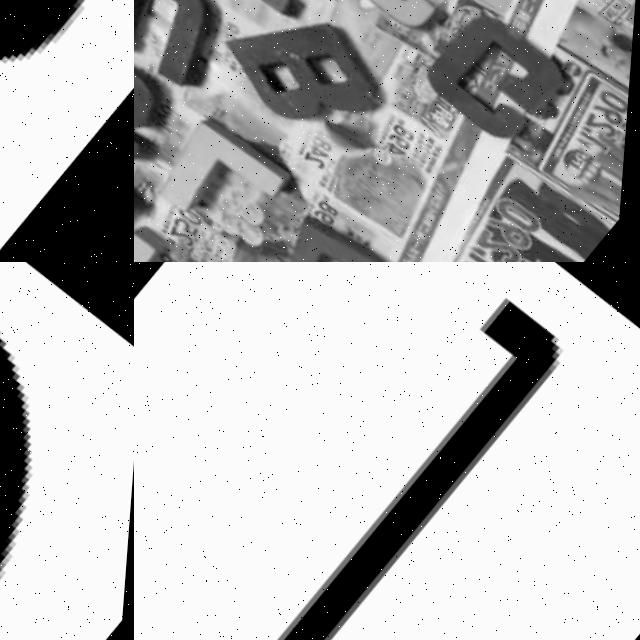3: (0, 0, 134, 262)
5: (0, 262, 134, 640)
B: (213, 0, 407, 165)
C: (326, 0, 492, 47)
D: (258, 213, 422, 262)
G: (423, 9, 588, 165)
J: (134, 288, 589, 640)
L: (158, 117, 302, 255)
S: (134, 33, 189, 183)
U: (134, 0, 246, 105)
